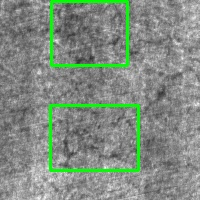crazing: (50, 105, 138, 170), (51, 1, 127, 65)
